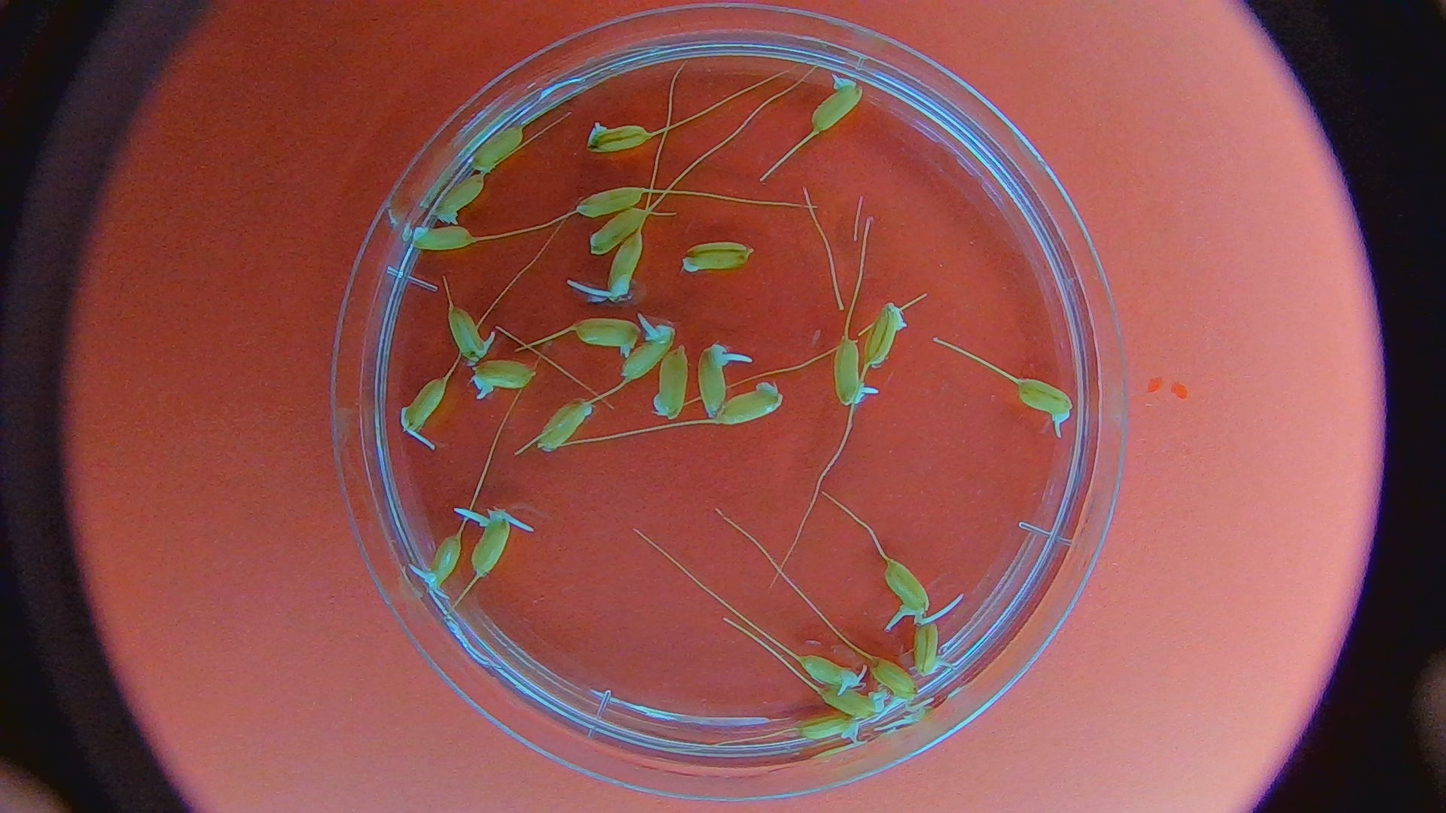no: (539, 399, 593, 452), (573, 318, 643, 357), (718, 383, 781, 425), (590, 209, 648, 254), (869, 303, 908, 369), (435, 175, 487, 224), (651, 348, 685, 420), (471, 124, 524, 169), (584, 120, 651, 154), (682, 242, 755, 273), (575, 184, 641, 218), (871, 656, 918, 703), (816, 686, 883, 717), (797, 714, 859, 741), (410, 227, 477, 250)
yes: (808, 72, 865, 138), (880, 556, 931, 620), (471, 510, 515, 580), (622, 324, 674, 382), (448, 305, 496, 363), (473, 359, 536, 400), (1013, 376, 1073, 419), (795, 658, 861, 697), (698, 346, 734, 417), (420, 535, 463, 592), (832, 334, 867, 404), (606, 230, 641, 298), (400, 376, 439, 430), (914, 623, 950, 674)
